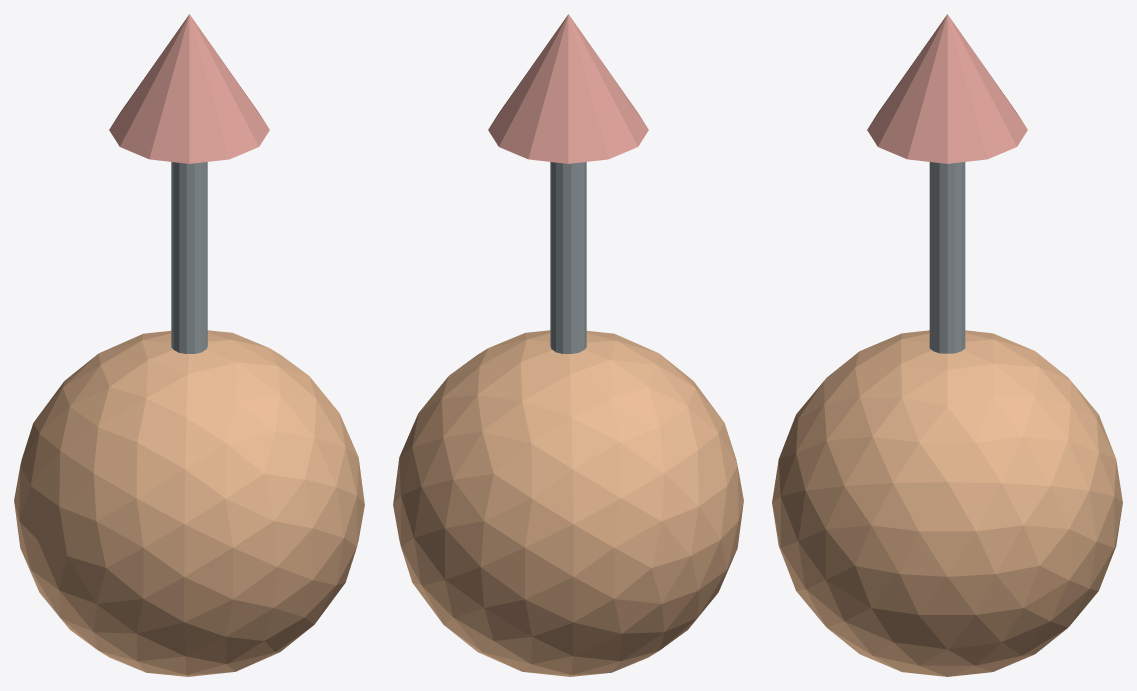
File: diving_buoy.glb
The picture shows the model from 3 angles, left to right: view 1: azimuth 30°, elevation 25°; view 2: azimuth 150°, elevation 25°; view 3: azimuth 270°, elevation 25°; orthographic projection.
Visible parts, largest first — view 1: part_00, part_02, part_01; view 2: part_00, part_02, part_01; view 3: part_00, part_02, part_01.
Part boxes in pixels (<box>): part_00: <box>14,330,364,676</box>; part_02: <box>109,14,269,163</box>; part_01: <box>171,162,207,353</box>; part_00: <box>393,330,743,676</box>; part_02: <box>488,14,648,163</box>; part_01: <box>550,162,586,353</box>; part_00: <box>772,330,1122,676</box>; part_02: <box>867,14,1027,163</box>; part_01: <box>929,162,965,353</box>.
Size of the model in its own units: 0.96 by 1.95 by 0.96.
